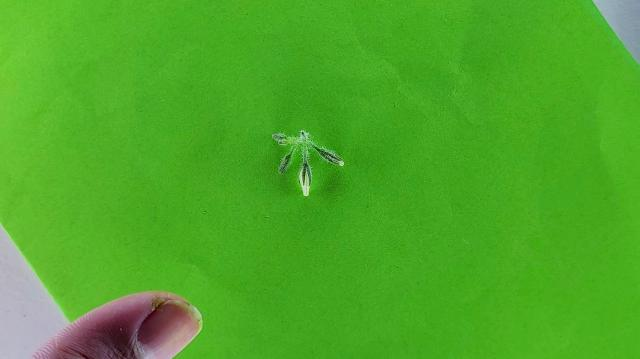Flower Bud: (310, 145, 344, 166), (298, 162, 310, 193), (278, 150, 293, 174), (271, 132, 290, 143)
